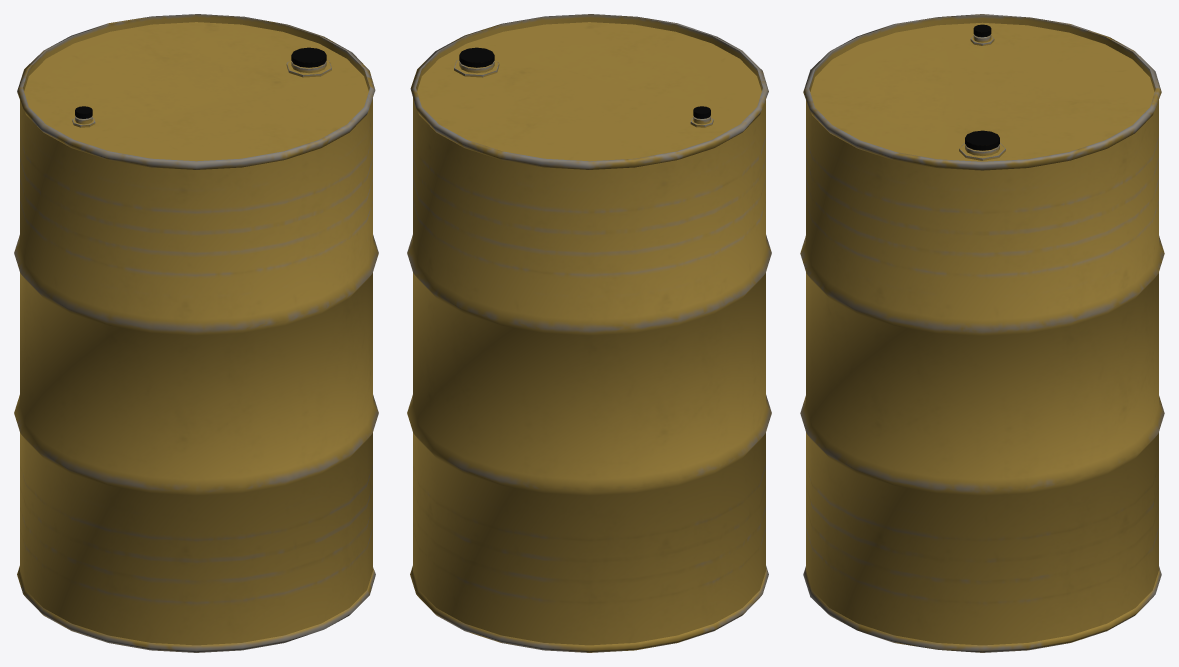
The model's file is bariljaune1mini.gltf.
3 renders of one model, left to right at view 1: azimuth 30°, elevation 25°; view 2: azimuth 150°, elevation 25°; view 3: azimuth 270°, elevation 25°, orthographic.
Visible parts, largest first — view 1: Barrel_Yellow_01_Barrel_Yellow_01_0; view 2: Barrel_Yellow_01_Barrel_Yellow_01_0; view 3: Barrel_Yellow_01_Barrel_Yellow_01_0.
Part boxes in pixels (bbox=[...]): Barrel_Yellow_01_Barrel_Yellow_01_0: bbox=[14, 14, 378, 652]; Barrel_Yellow_01_Barrel_Yellow_01_0: bbox=[407, 14, 771, 652]; Barrel_Yellow_01_Barrel_Yellow_01_0: bbox=[800, 14, 1164, 652].
Bounding box in the file's own units: 0.8565 × 1.28 × 0.8565.
1 material, 1 textured.
